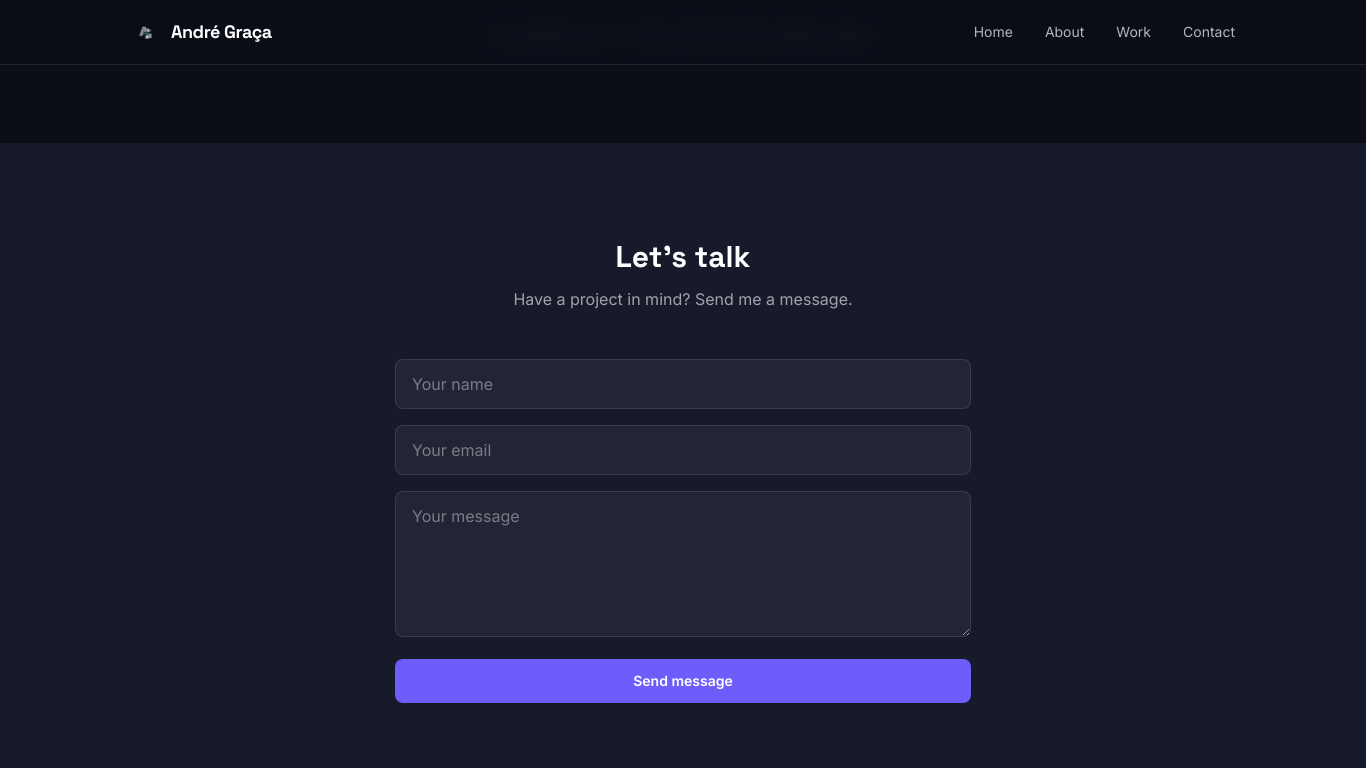
Scenario: Home › submits the contact form and shows a success message
(page scrolled)
Type "Jane Doe" into the field with placeholder "Your name" at (683, 384), box [395,359,971,409]
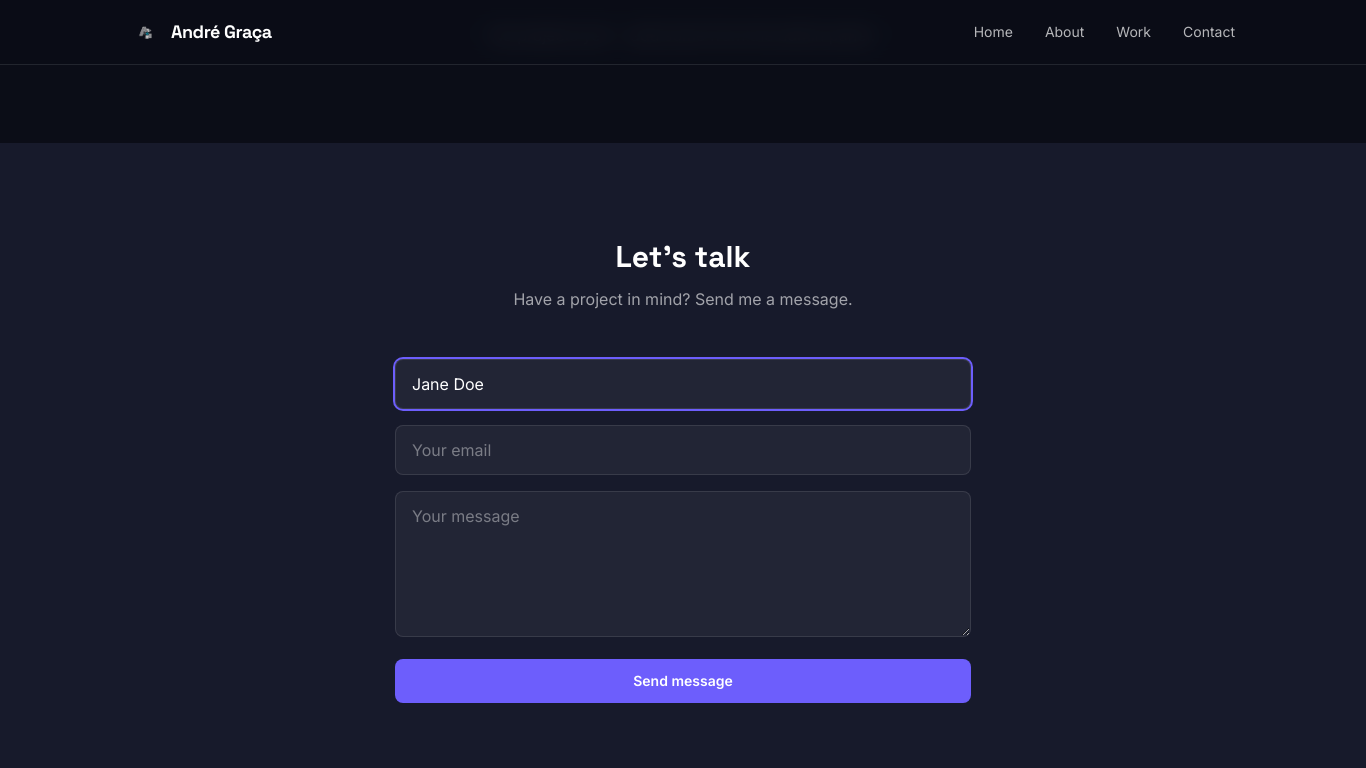
Type "jane@example.com" into the field with placeholder "Your email" at (683, 450), box [395,425,971,475]
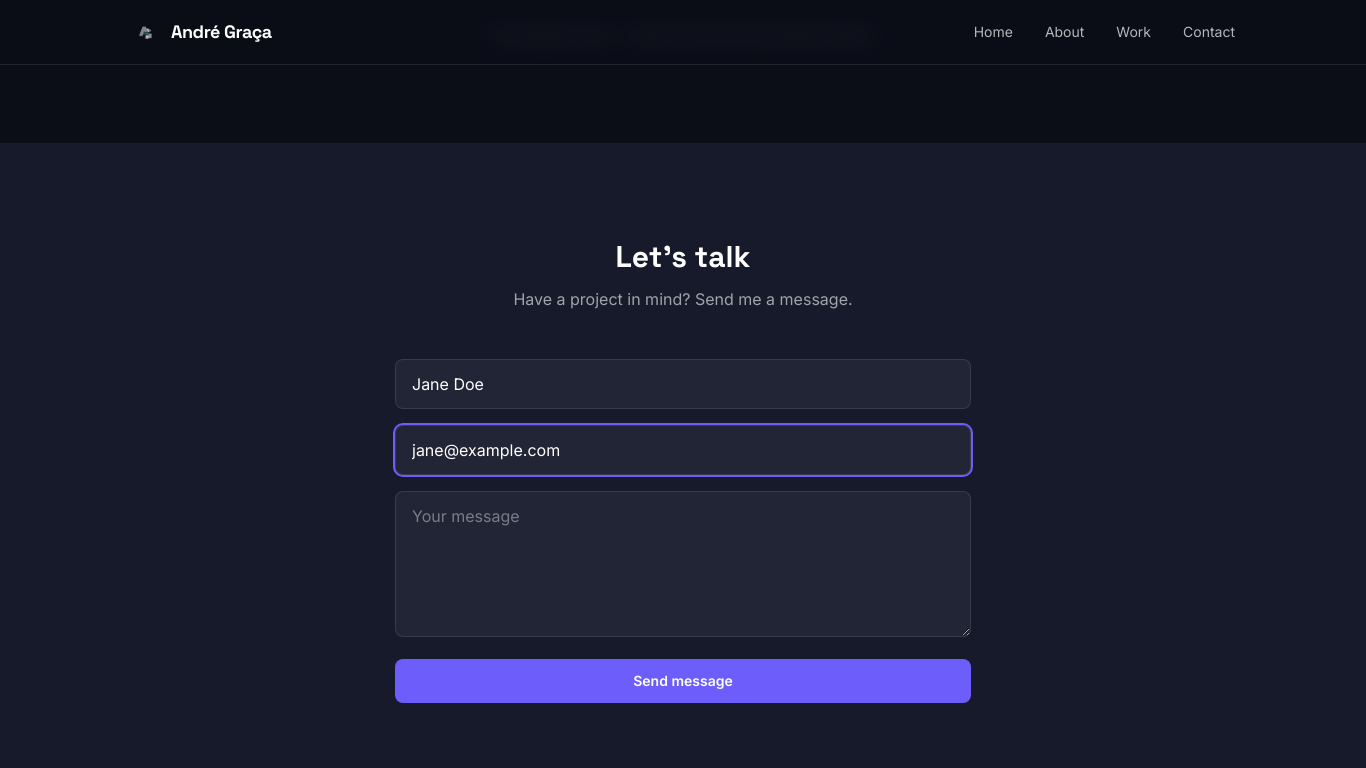
Type "Hello there" into the text box with placeholder "Your message" at (683, 564), box [395,491,971,637]
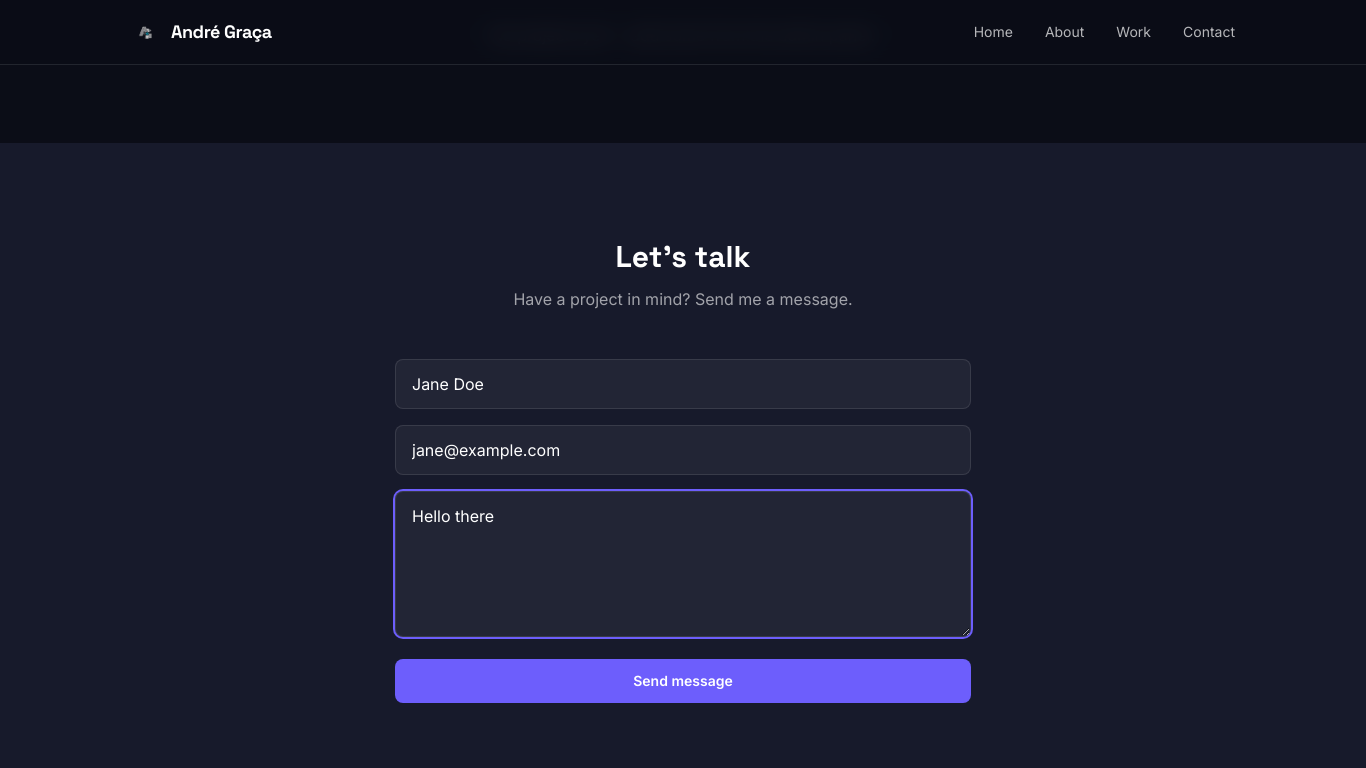
Click the button "Send message" at (683, 681), box [395,659,971,703]
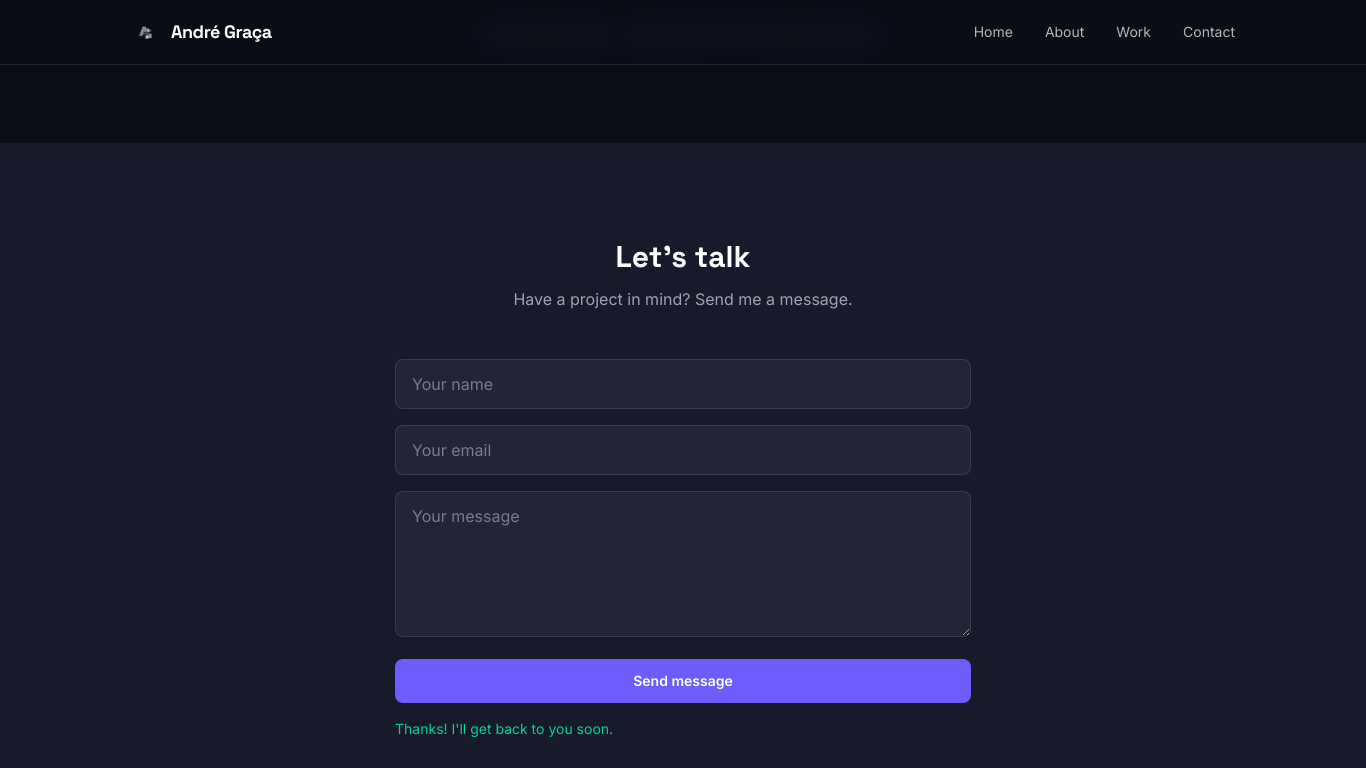
Result: the text "Thanks! I'll get back to you soon." is shown at [395,720,613,737]
